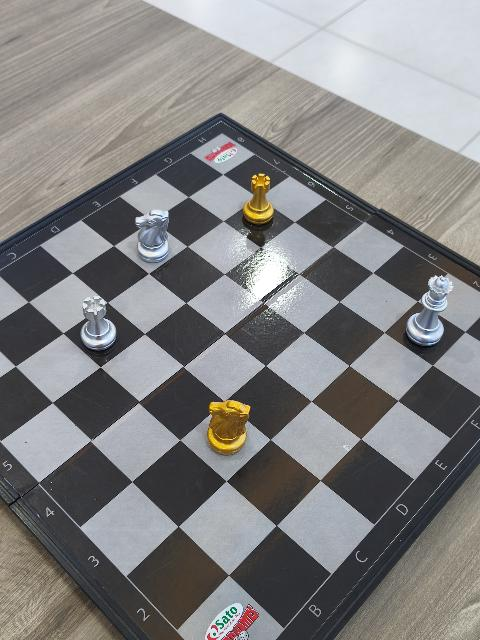black_knight: (205, 399, 252, 458)
black_rook: (242, 174, 276, 226)
white_knight: (133, 208, 172, 264)
white_queen: (405, 274, 453, 348)
white_rook: (80, 295, 118, 354)
